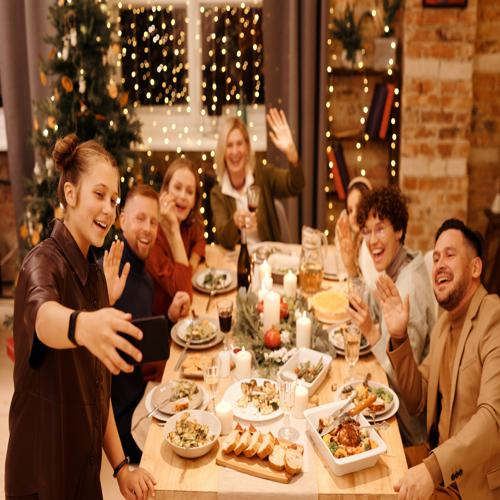copa: (275, 372, 301, 444), (199, 360, 226, 420), (341, 325, 365, 384), (217, 301, 234, 353)
